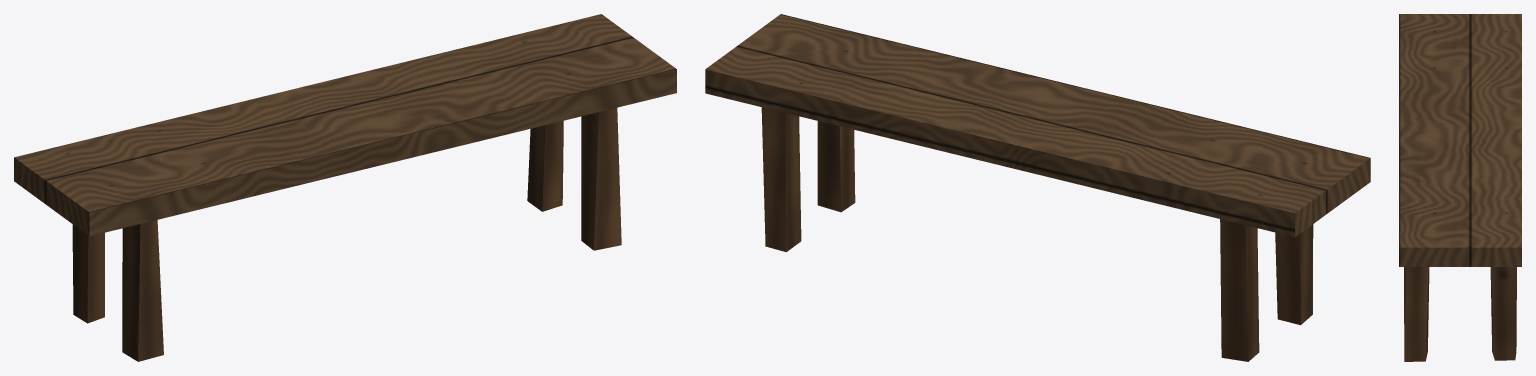
Rendered from Bench.fbx.
3 renders of one model, left to right at view 1: azimuth 30°, elevation 25°; view 2: azimuth 150°, elevation 25°; view 3: azimuth 270°, elevation 25°, orthographic. The views are drawn at different scales.
Parts seen in each view (by area): view 1: Bench; view 2: Bench; view 3: Bench.
Boxes of the visible parts, x1,y1,x2,y2 form: Bench: (14, 14, 676, 361); Bench: (705, 14, 1370, 361); Bench: (1399, 14, 1521, 361).
Size of the model in its own units: 1.8 by 0.485 by 0.4.
